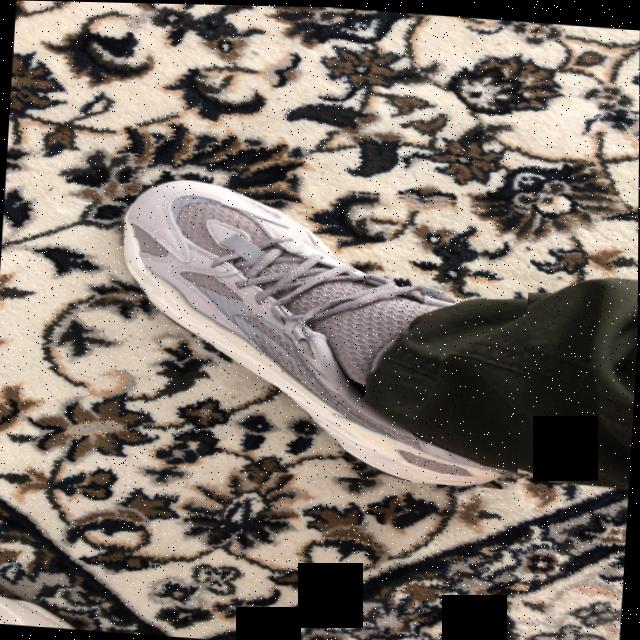shoe: (104, 172, 535, 488)
